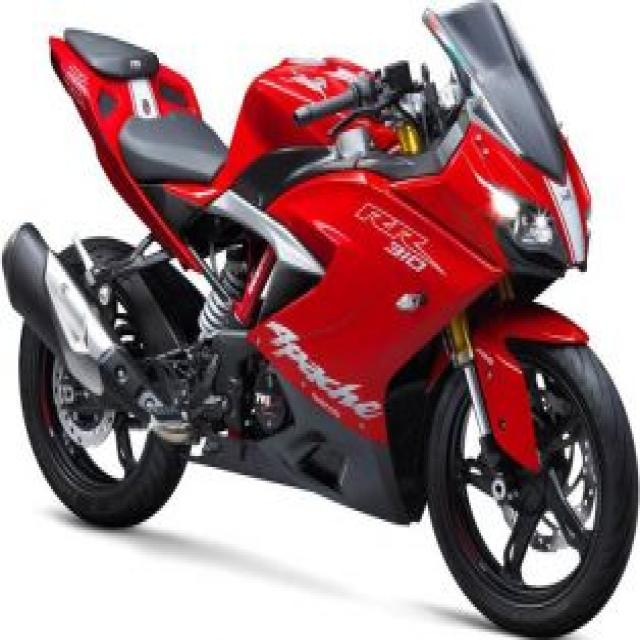motorcycle: (2, 7, 638, 633)
